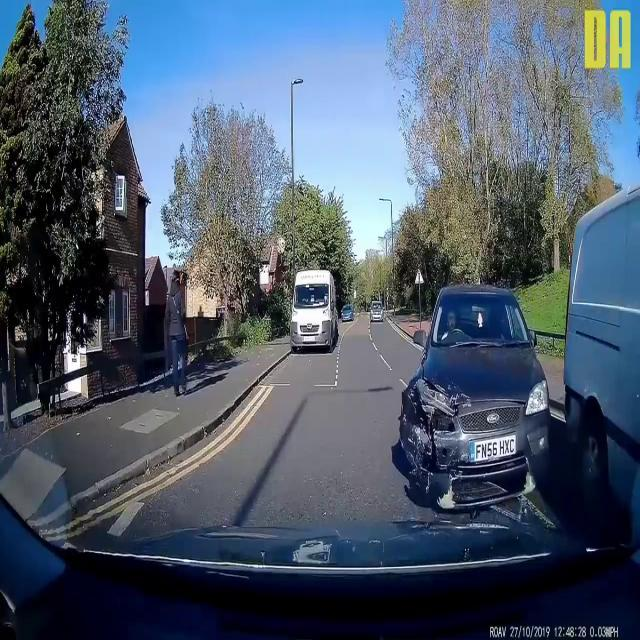multiple_accident: (350, 170, 640, 561)
normal: (266, 252, 349, 360)
